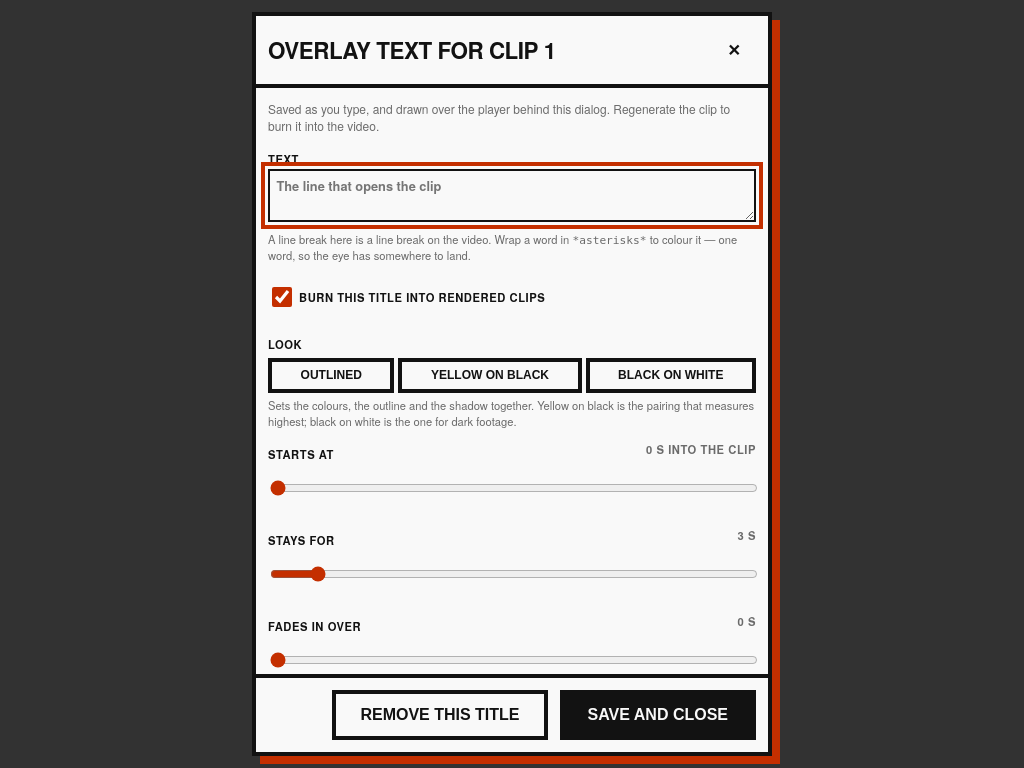
Test: OverlayTextEditor › says when a title has grown past what a thumbnail can carry
Type "one two three" into the text box labelled "Text" at point(512, 195), box top-left (268, 169), bottom-right (756, 222)
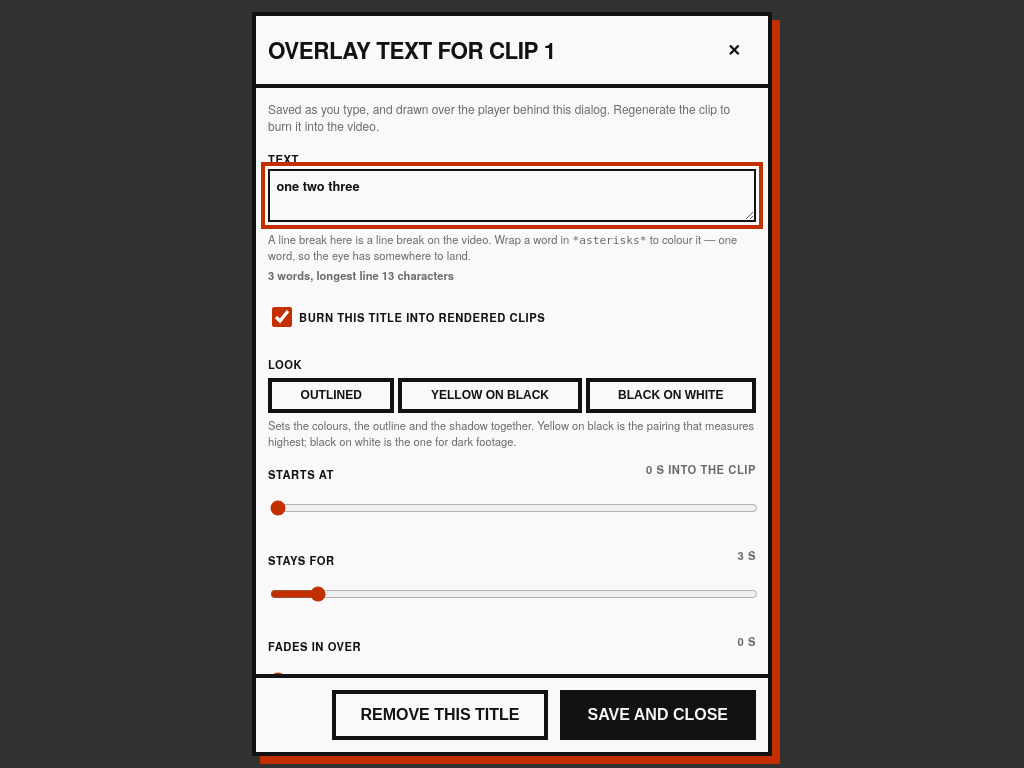
Result: the text "3 words, longest line 13 characters" is shown at top-left (268, 267), bottom-right (454, 283)
Replace the text in the text box labelled "Text" with "one two three four five six" at point(512, 195), box top-left (268, 169), bottom-right (756, 222)
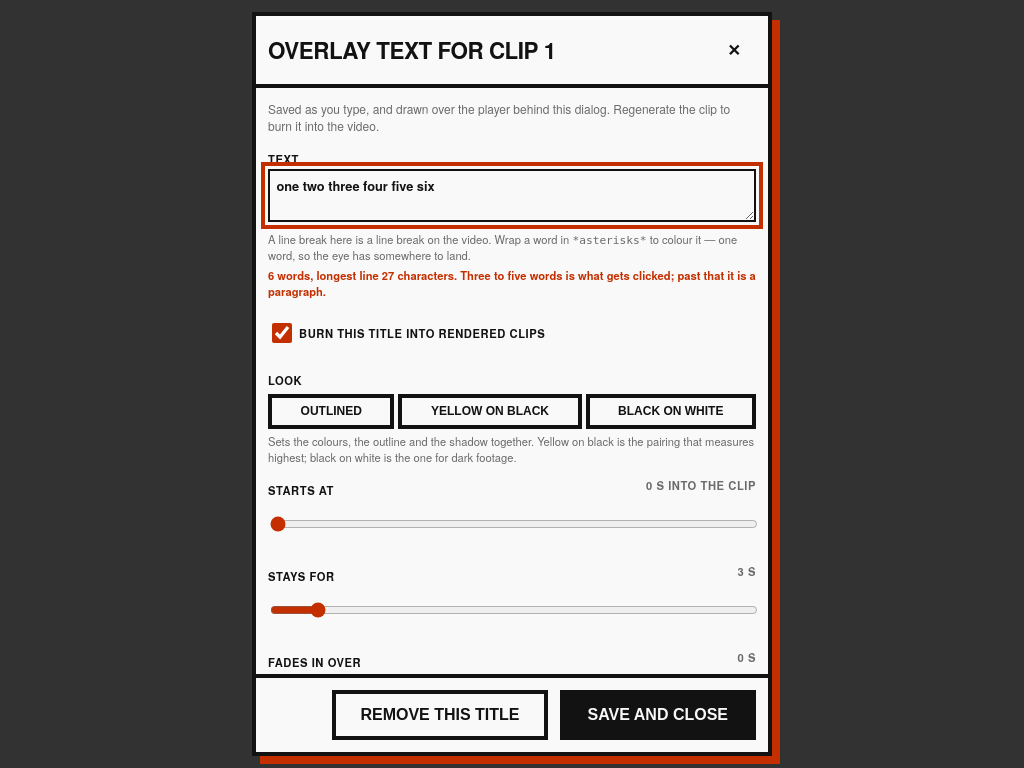
Result: the text "Three to five words is what gets clicked" is shown at top-left (268, 267), bottom-right (756, 299)
